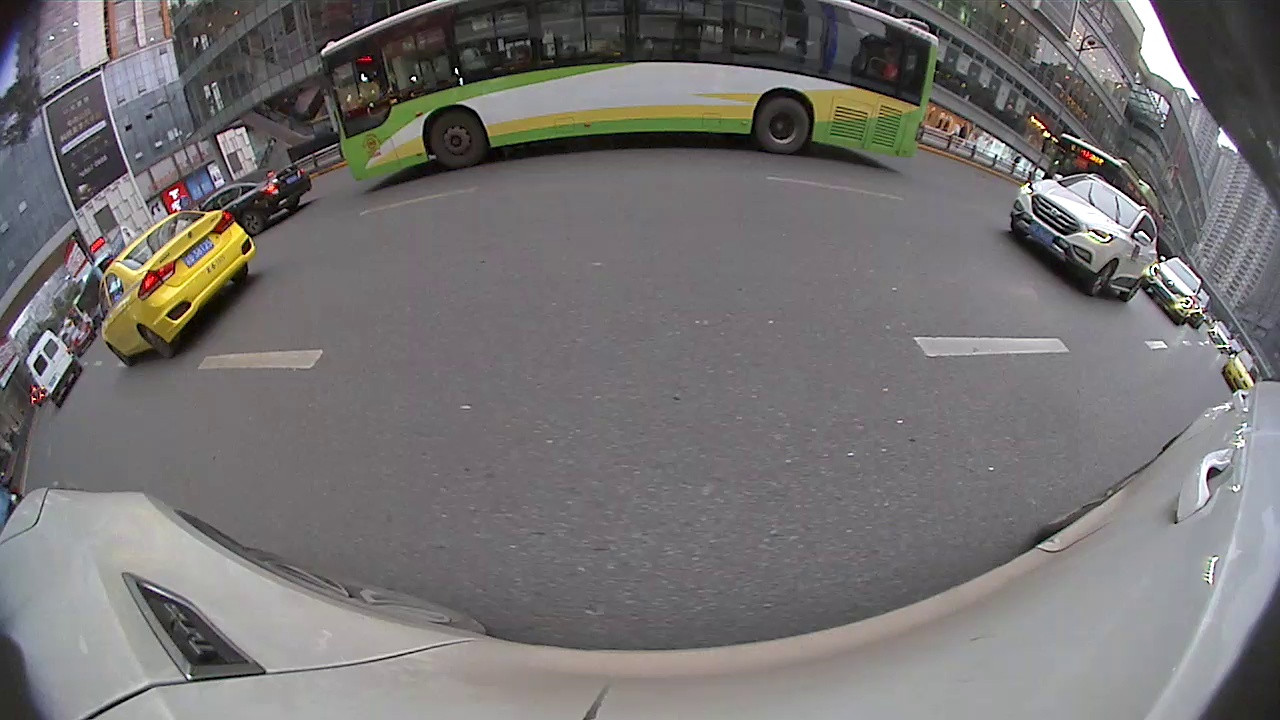bus: (314, 0, 944, 190)
car: (95, 207, 259, 370), (1010, 172, 1156, 309), (196, 166, 310, 234), (1141, 258, 1206, 327), (23, 334, 80, 410)
front: (429, 110, 485, 168), (1085, 257, 1118, 296)
rear: (755, 97, 812, 157), (137, 324, 177, 361), (237, 211, 263, 238)
